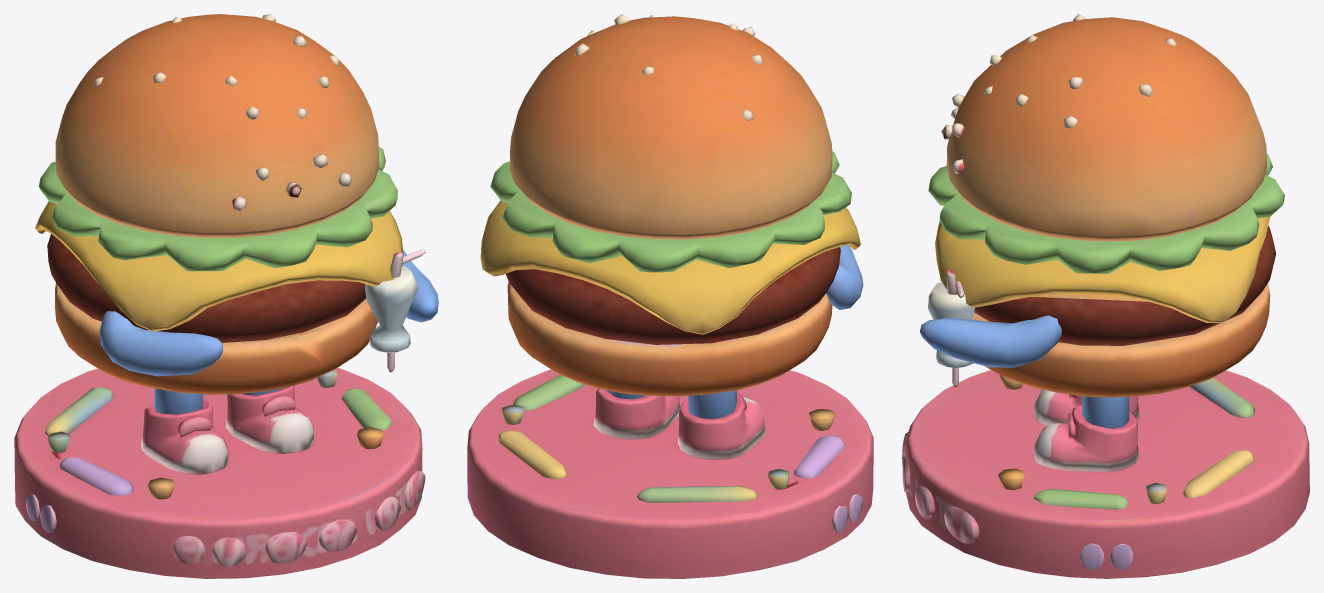
The model's file is fastfood-burger-statue.glb.
The picture shows the model from 3 angles, left to right: view 1: azimuth 30°, elevation 25°; view 2: azimuth 150°, elevation 25°; view 3: azimuth 270°, elevation 25°; orthographic projection.
Visible parts, largest first — view 1: geometry_0; view 2: geometry_0; view 3: geometry_0.
Boxes of the visible parts, <box> form: geometry_0: <box>14,14,438,578</box>; geometry_0: <box>467,14,873,578</box>; geometry_0: <box>902,14,1309,578</box>.
Bounding box in the file's own units: 0.8216 × 1 × 0.8116.
Materials: 1 (1 with a texture image).
